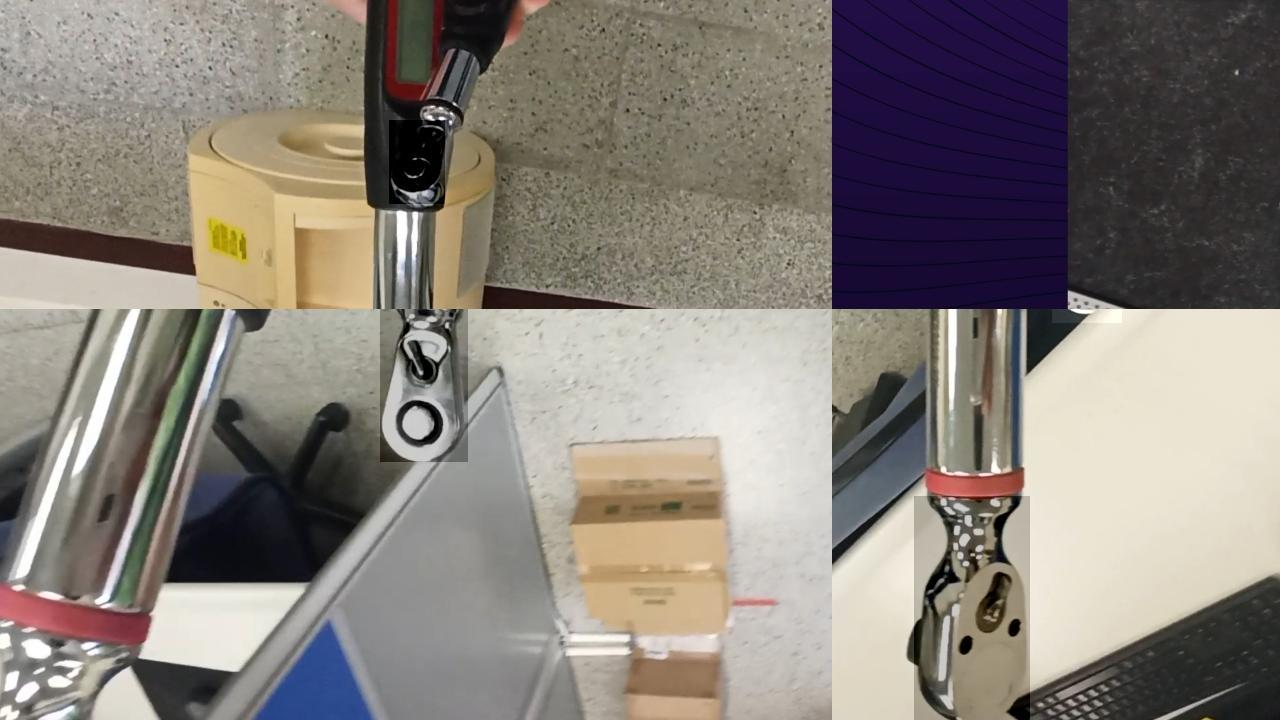Tool: (913, 495, 1029, 720), (379, 309, 467, 461), (388, 119, 444, 203)
